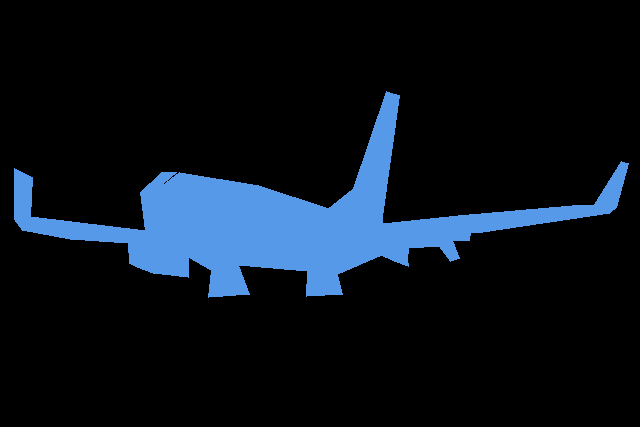Airplane: (14, 91, 628, 298)
